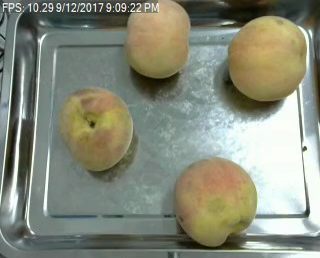Peach: (173, 156, 258, 246), (227, 14, 309, 101), (58, 87, 133, 171), (124, 0, 191, 79)
